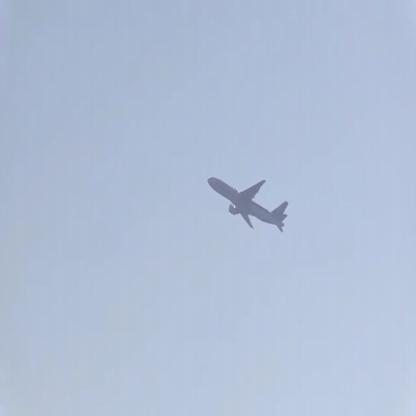CIV_Plane: (202, 171, 298, 239)
